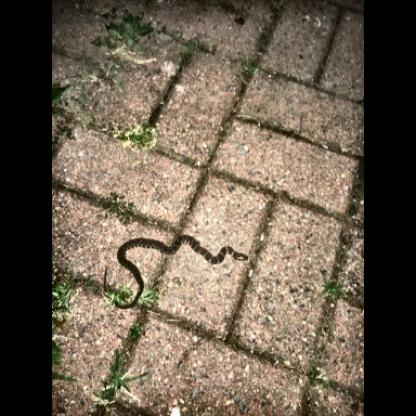Snake: (102, 229, 251, 309)
